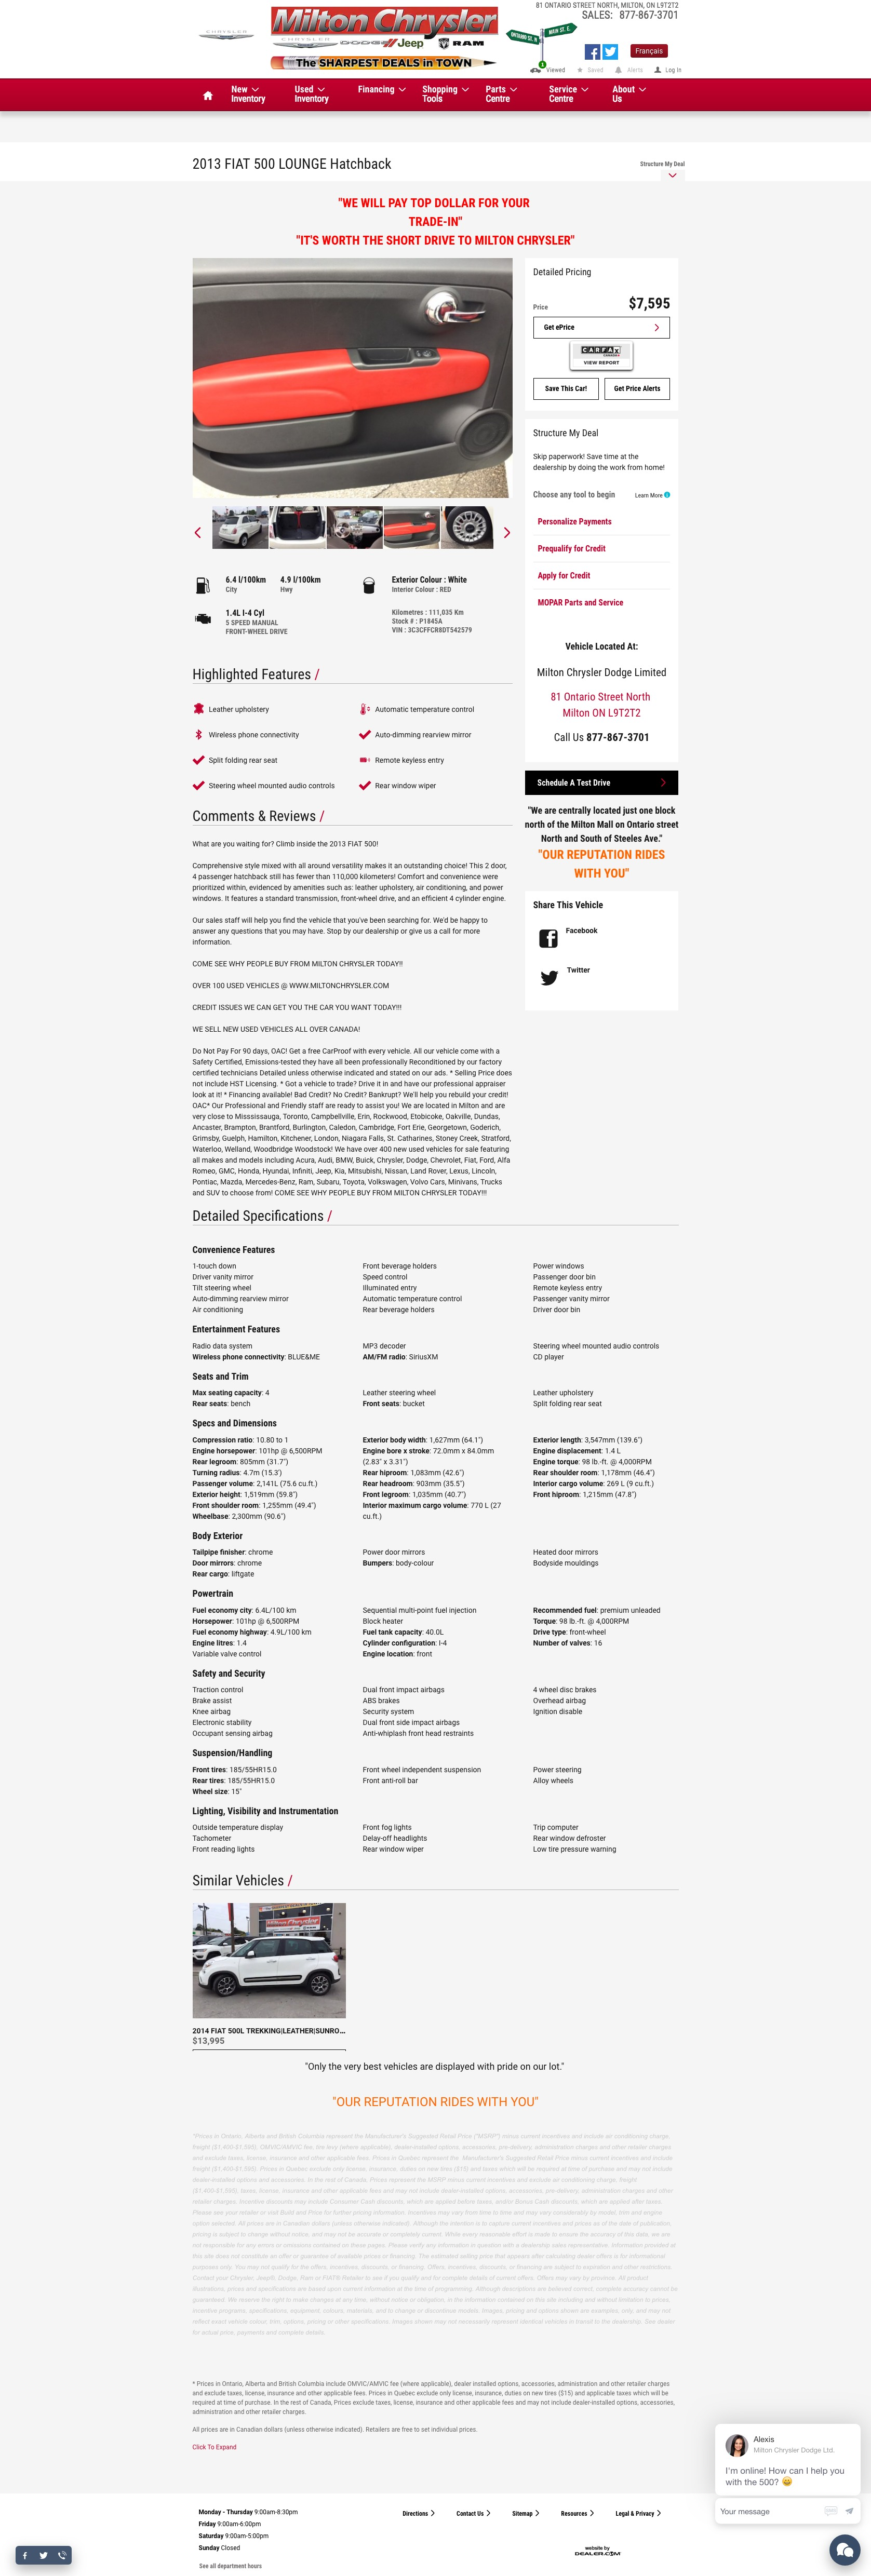car: (503, 527, 511, 540)
